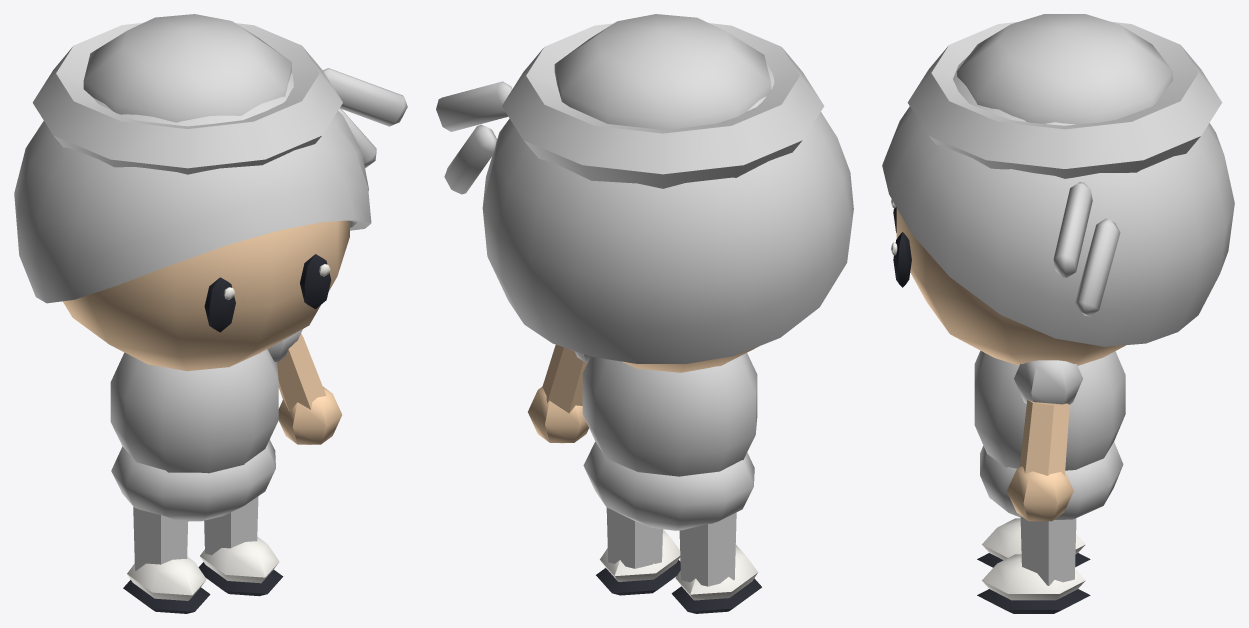
File: guyh_sailor_w.fbx
3 views of the same model, side by side, from view 1: azimuth 30°, elevation 25°; view 2: azimuth 150°, elevation 25°; view 3: azimuth 270°, elevation 25° (orthographic). The views are drawn at different scales.
Visible parts, largest first — view 1: guyh_sailor_w; view 2: guyh_sailor_w; view 3: guyh_sailor_w.
Boxes of the visible parts, <box> form: guyh_sailor_w: <box>14,14,407,613</box>; guyh_sailor_w: <box>436,14,853,613</box>; guyh_sailor_w: <box>882,14,1234,613</box>.
Bounding box in the file's own units: 0.5345 × 0.7535 × 0.4304.
